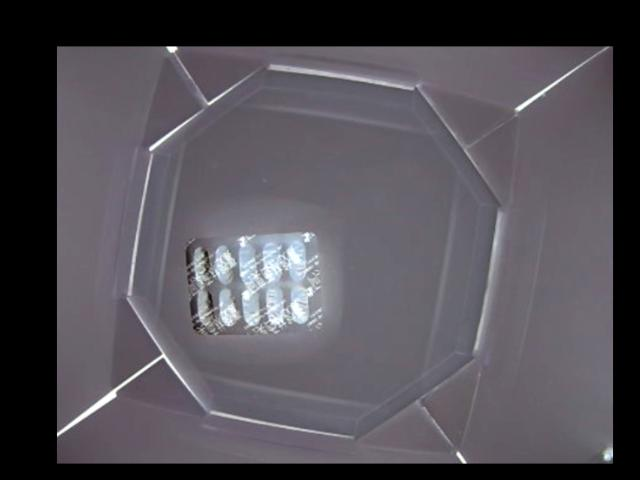Medicine: (183, 230, 326, 335)
